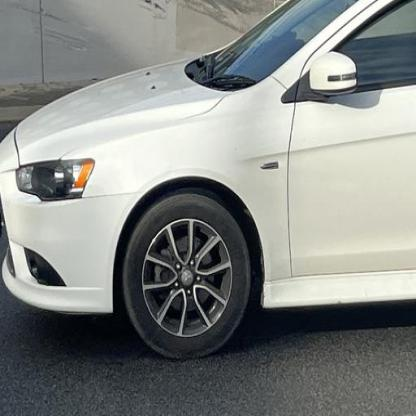Tire: (122, 190, 250, 360)
